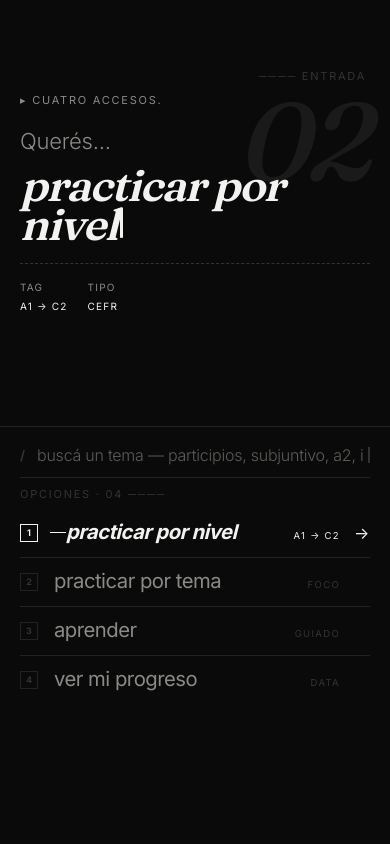
TopicSearch in StepView › highlights the matched substring in the label
Type "indefinido" into the dropdown. click: point(200, 455)
box: [37, 443, 364, 467]
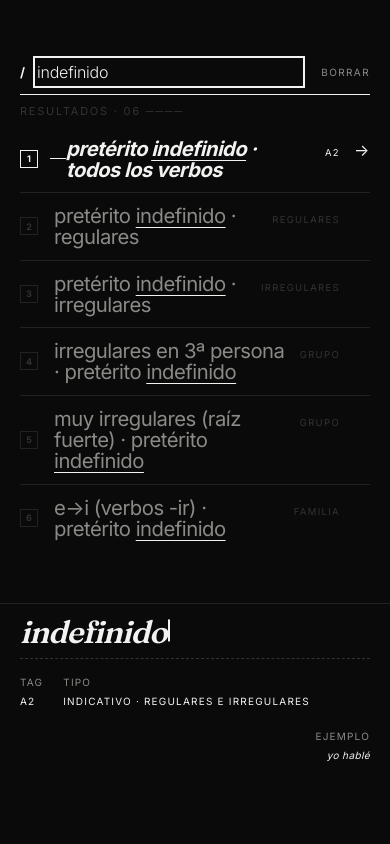
Expected: the text "indefinido" next to "· todos los verbos" is shown, [151, 136, 246, 160]
